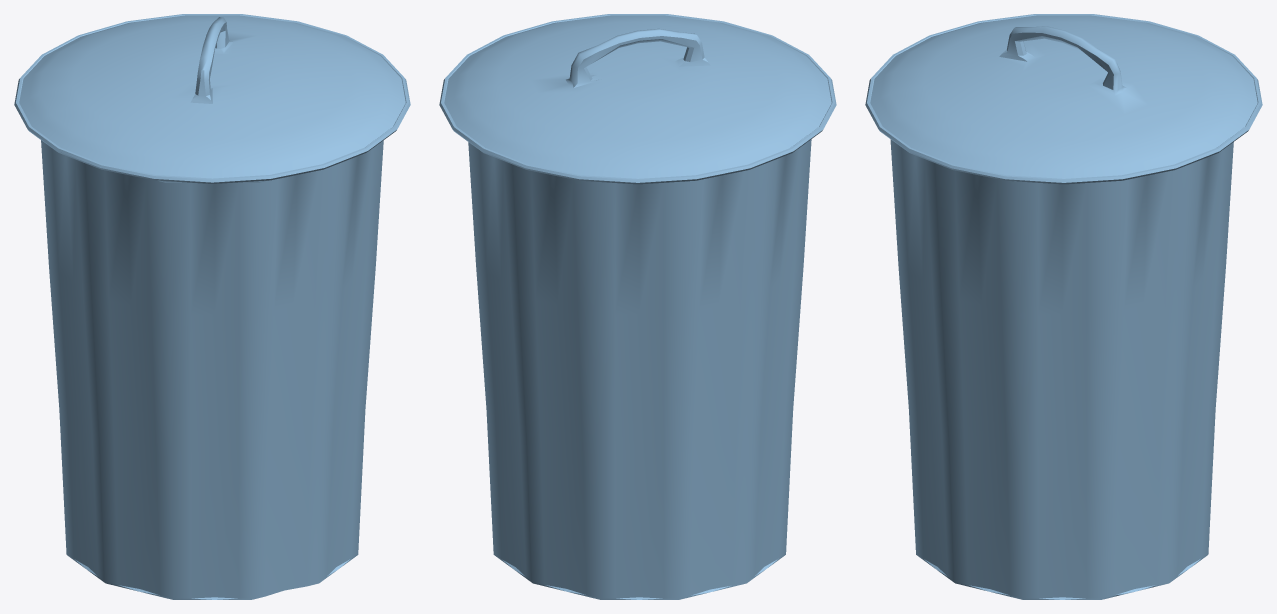
Rendered from garbageCan.FBX.
The picture shows the model from 3 angles, left to right: view 1: azimuth 30°, elevation 25°; view 2: azimuth 150°, elevation 25°; view 3: azimuth 270°, elevation 25°; orthographic projection.
Parts seen in each view (by area): view 1: Tube014; view 2: Tube014; view 3: Tube014.
Boxes of the visible parts, x1=… form: Tube014: x1=14, y1=14, x2=410, y2=599; Tube014: x1=439, y1=14, x2=836, y2=599; Tube014: x1=865, y1=14, x2=1262, y2=599.
Bounding box in the file's own units: 88.38 × 125 × 88.63.
